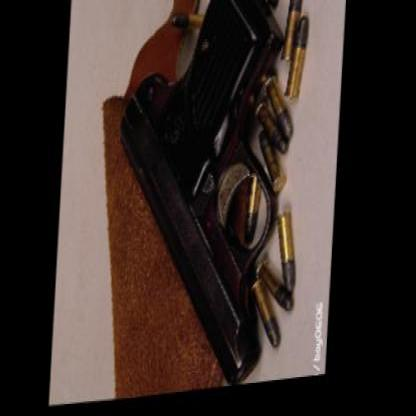pistol: (106, 0, 293, 401)
